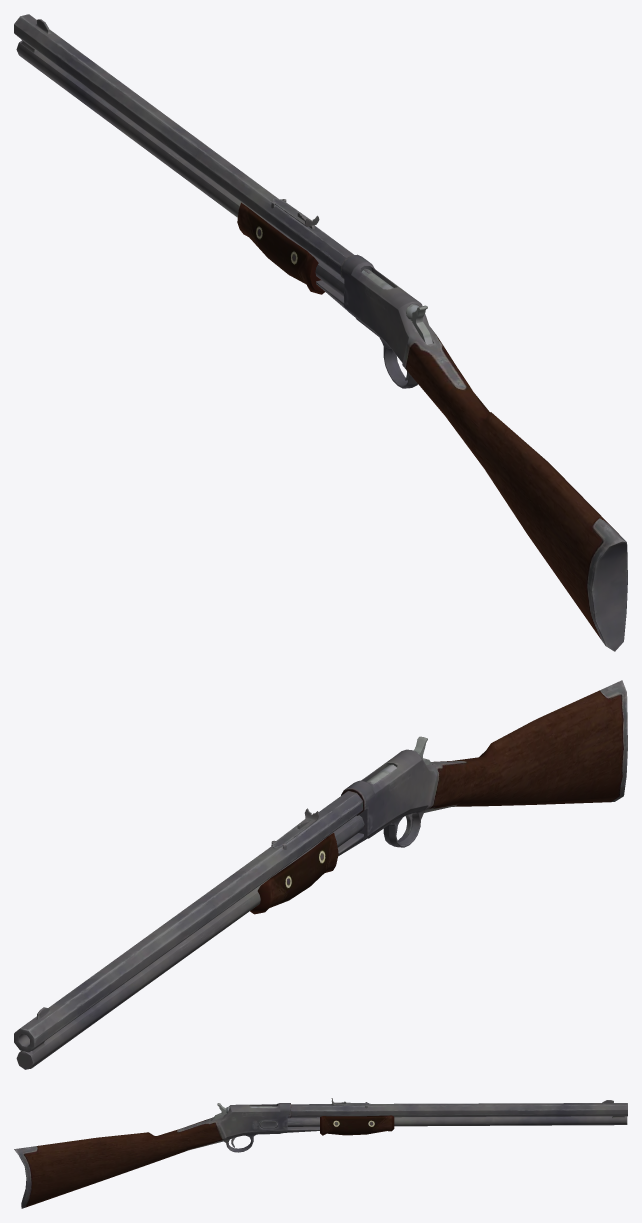
The model's file is lightning.glb.
3 views of the same model, one above another, from view 1: azimuth 30°, elevation 25°; view 2: azimuth 150°, elevation 25°; view 3: azimuth 270°, elevation 25° (orthographic). The views are drawn at different scales.
Parts seen in each view (by area): view 1: Object_7; view 2: Object_7; view 3: Object_7.
Boxes of the visible parts, x1,y1,x2,y2 form: Object_7: [14, 14, 627, 651]; Object_7: [14, 680, 627, 1069]; Object_7: [14, 1098, 627, 1208].
Bounding box in the file's own units: 0.0344 × 0.1905 × 0.9677.
1 material, 1 textured.
